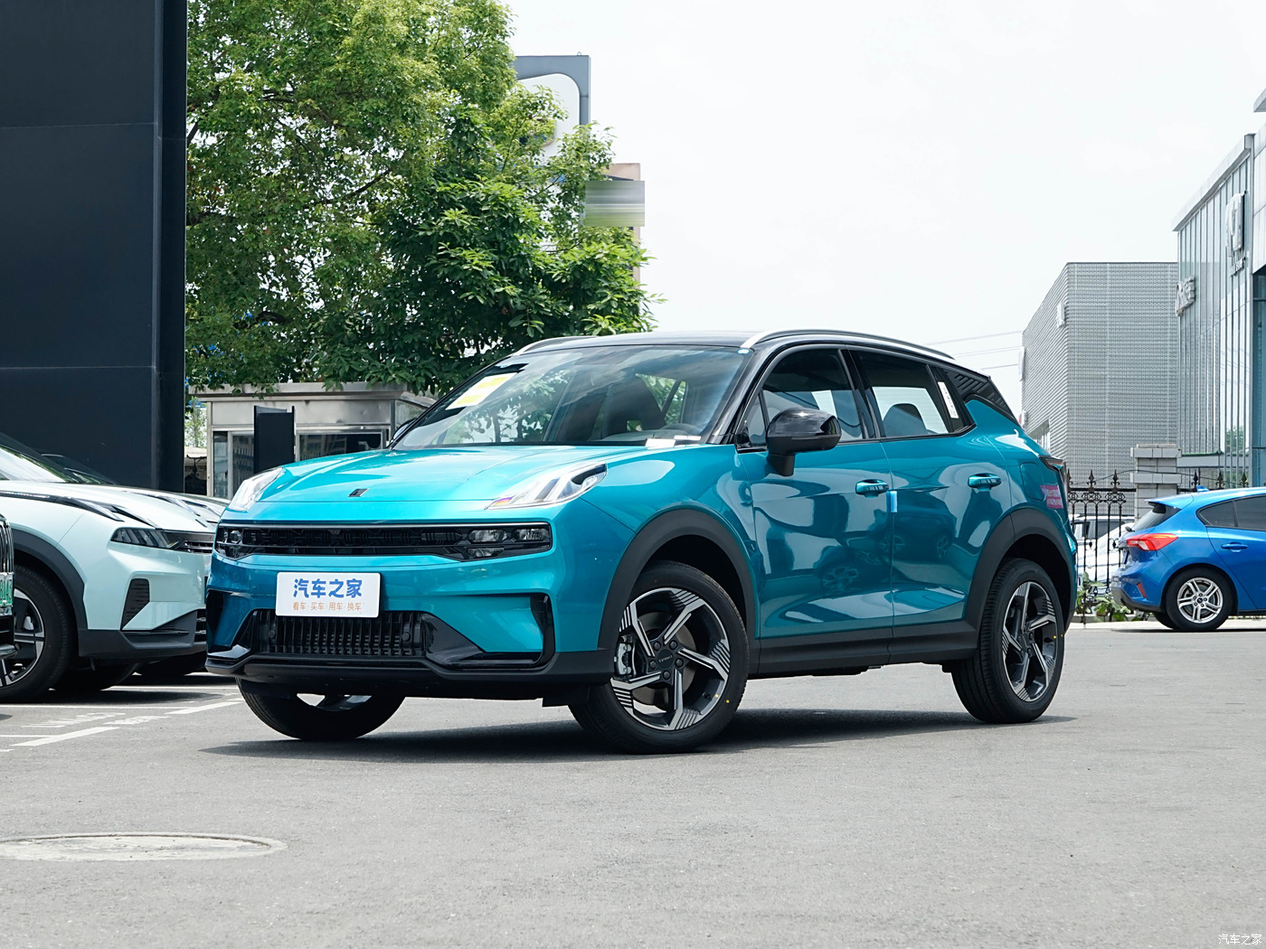LINK&CO: (348, 488, 368, 497)
